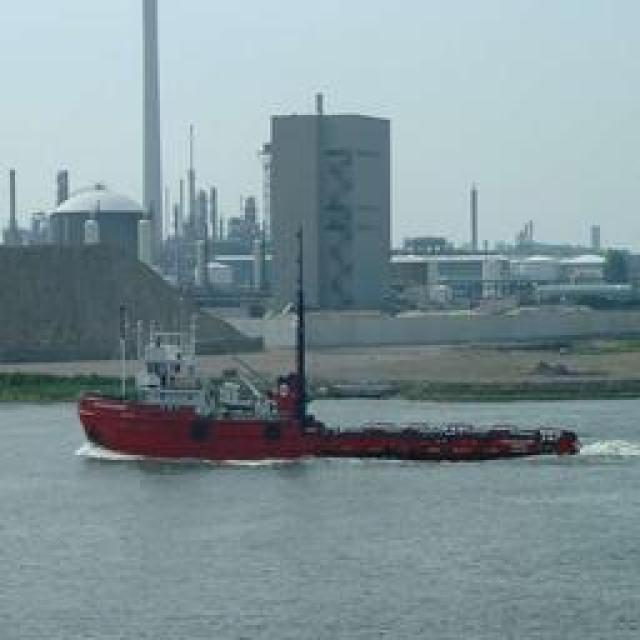CIV_Ship: (72, 388, 586, 466)
